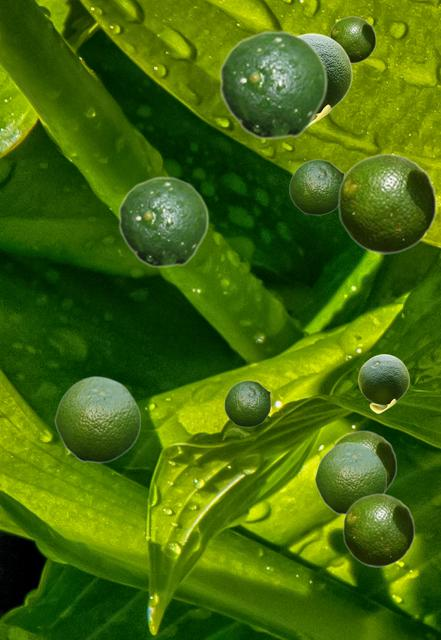calamansi: (219, 30, 327, 139), (337, 153, 436, 253), (118, 176, 208, 267), (54, 375, 140, 462), (314, 441, 386, 514), (342, 493, 414, 566), (299, 33, 351, 124), (332, 430, 396, 491), (289, 159, 344, 214), (358, 354, 408, 412), (224, 380, 270, 426), (329, 16, 375, 62)
